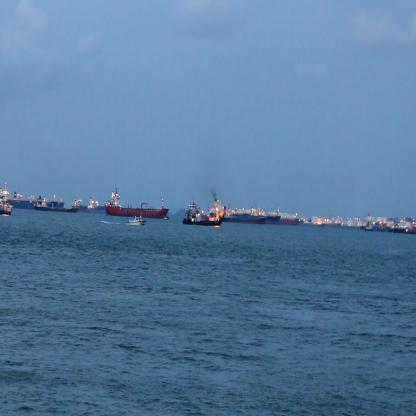Container Ship: (105, 184, 169, 219), (2, 187, 56, 210), (212, 208, 268, 226), (34, 197, 82, 214), (72, 198, 109, 214), (283, 204, 303, 227), (268, 206, 283, 230), (0, 191, 13, 217), (365, 224, 393, 234)
